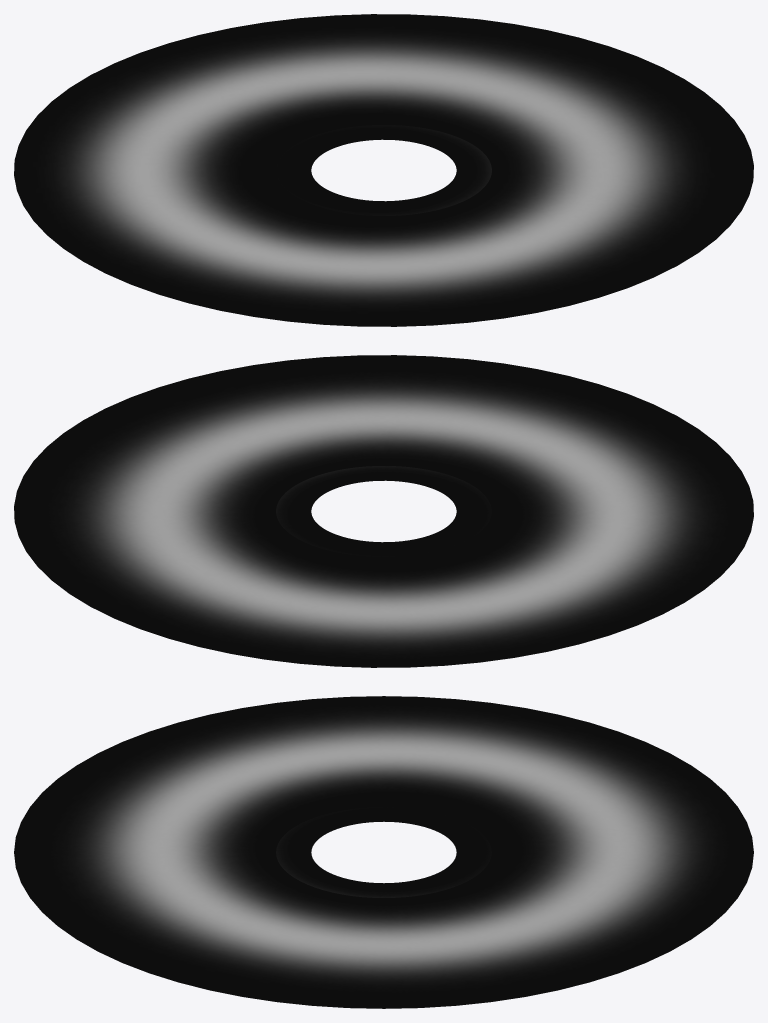
Rendered from emp_shock_wave_fx_01.glb.
The picture shows the model from 3 angles, top to bottom: view 1: azimuth 30°, elevation 25°; view 2: azimuth 150°, elevation 25°; view 3: azimuth 270°, elevation 25°; orthographic projection.
Parts seen in each view (by area): view 1: emp_wave_01, emp_wave_01b, emp_wave_01c; view 2: emp_wave_01, emp_wave_01b, emp_wave_01c; view 3: emp_wave_01, emp_wave_01b, emp_wave_01c.
Boxes of the visible parts, x1=… form: emp_wave_01: x1=14, y1=14, x2=753, y2=326; emp_wave_01b: x1=276, y1=125, x2=491, y2=215; emp_wave_01c: x1=304, y1=136, x2=463, y2=204; emp_wave_01: x1=14, y1=355, x2=753, y2=667; emp_wave_01b: x1=276, y1=466, x2=491, y2=556; emp_wave_01c: x1=304, y1=477, x2=463, y2=545; emp_wave_01: x1=14, y1=696, x2=753, y2=1008; emp_wave_01b: x1=276, y1=807, x2=491, y2=897; emp_wave_01c: x1=304, y1=818, x2=463, y2=886.
Size of the model in its own units: 348 by 4.65e-05 by 348.
3 materials, 3 textured.
